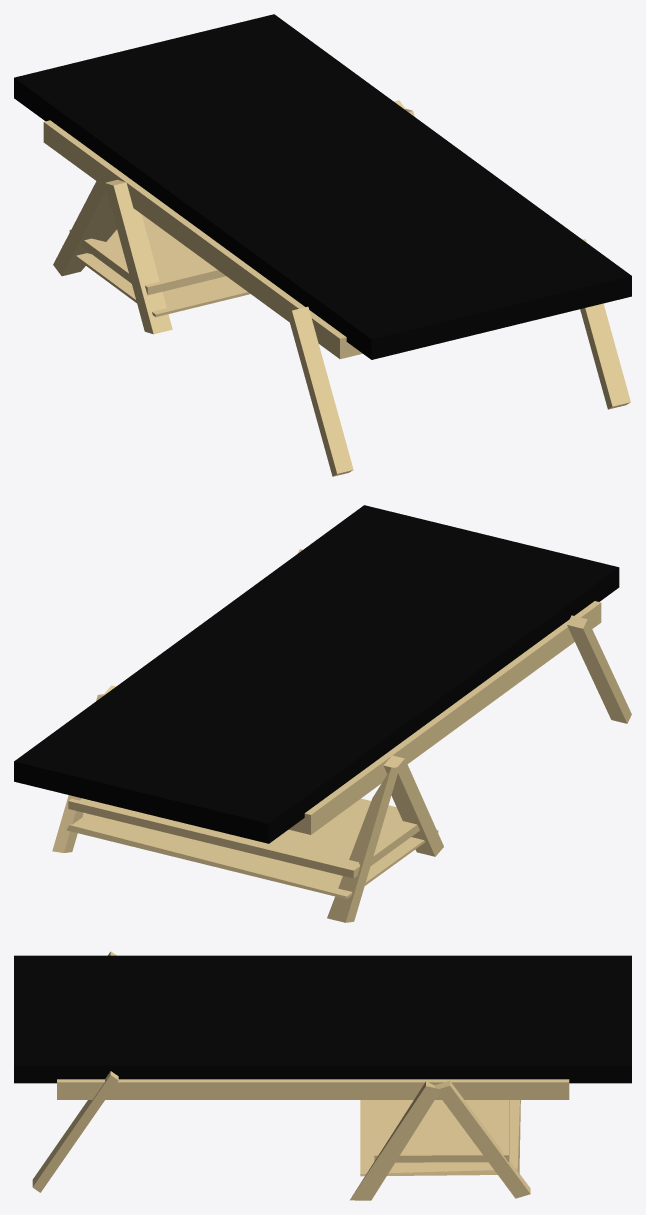
Rendered from banquinhoAcedemia.fbx.
The picture shows the model from 3 angles, top to bottom: view 1: azimuth 30°, elevation 25°; view 2: azimuth 150°, elevation 25°; view 3: azimuth 270°, elevation 25°; orthographic projection. The views are drawn at different scales.
Parts seen in each view (by area): view 1: PesoAcademia; view 2: PesoAcademia; view 3: PesoAcademia.
Boxes of the visible parts, x1,y1,x2,y2 form: PesoAcademia: (14,14,631,476); PesoAcademia: (14,505,631,922); PesoAcademia: (14,951,631,1200).
Size of the model in its own units: 68.26 by 31.19 by 138.
